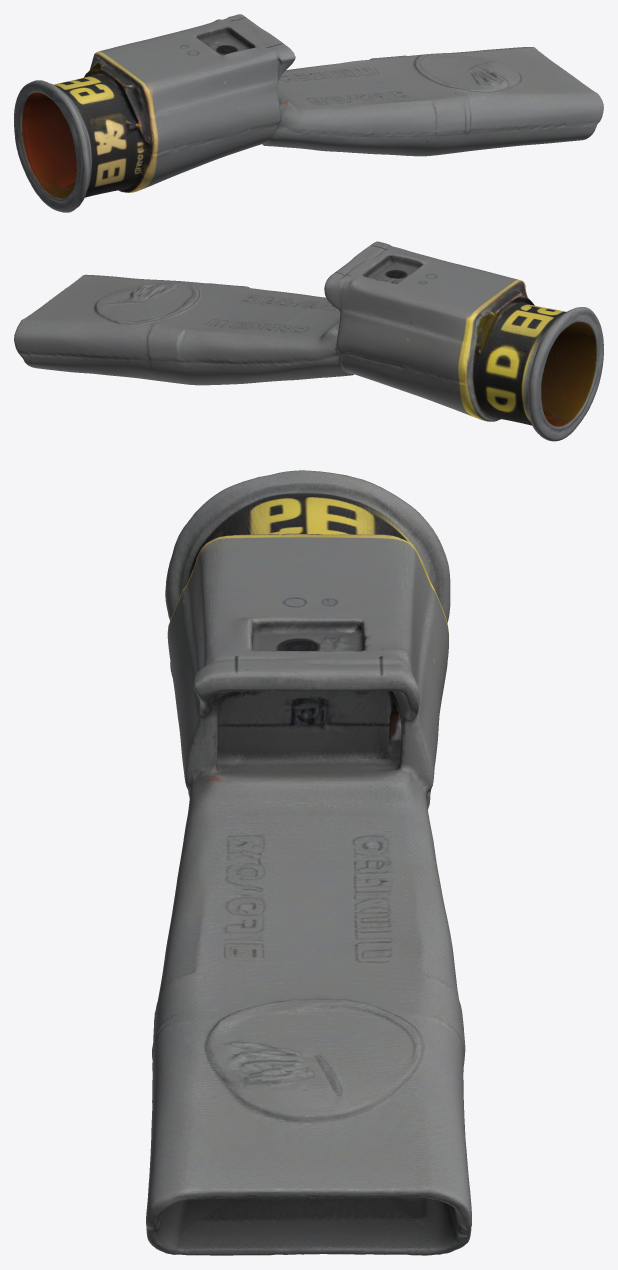
File: cleanled.glb
3 renders of one model, top to bottom at view 1: azimuth 30°, elevation 25°; view 2: azimuth 150°, elevation 25°; view 3: azimuth 270°, elevation 25°, orthographic. The views are drawn at different scales.
Size of the model in its own units: 2 by 0.5679 by 0.5449.
1 material, 1 textured.
